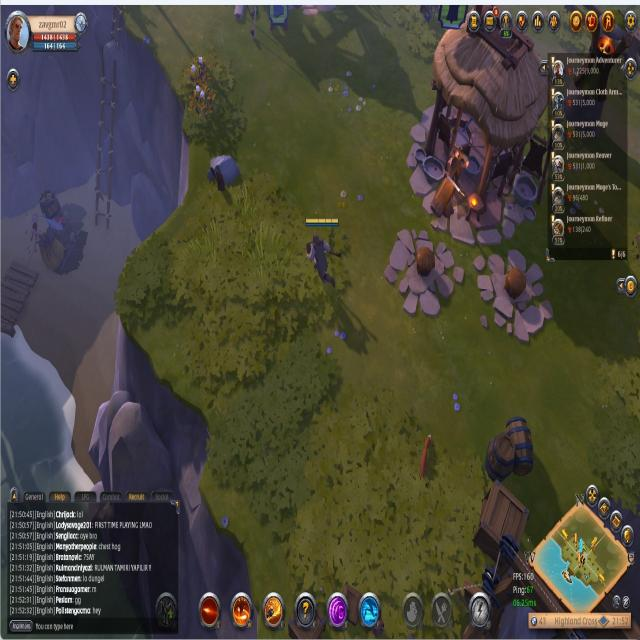stone: (208, 151, 242, 193)
